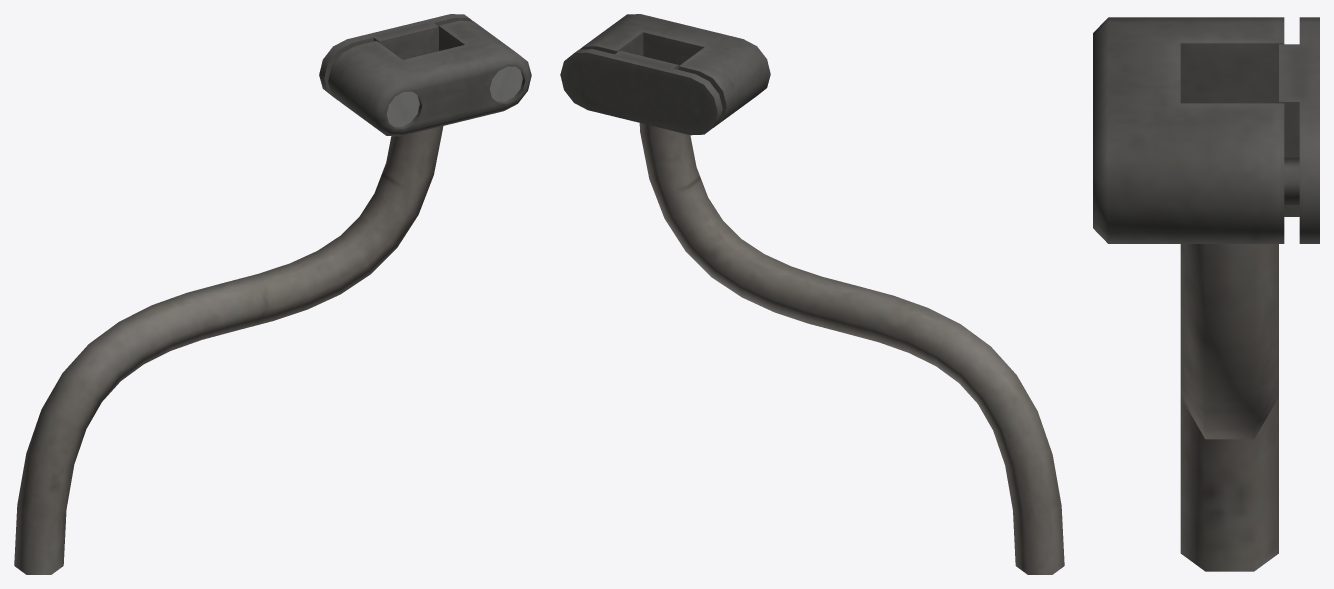
Rendered from cable_scurve_1.glb.
3 views of the same model, side by side, from view 1: azimuth 30°, elevation 25°; view 2: azimuth 150°, elevation 25°; view 3: azimuth 270°, elevation 25° (orthographic). The views are drawn at different scales.
Parts seen in each view (by area): view 1: cable_scurve_1.001; view 2: cable_scurve_1.001; view 3: cable_scurve_1.001.
Boxes of the visible parts, <box> form: cable_scurve_1.001: <box>14,14,531,574</box>; cable_scurve_1.001: <box>560,14,1064,574</box>; cable_scurve_1.001: <box>1093,17,1319,571</box>.
Bounding box in the file's own units: 0.1257 × 0.1073 × 0.0259.
1 material, 1 textured.
